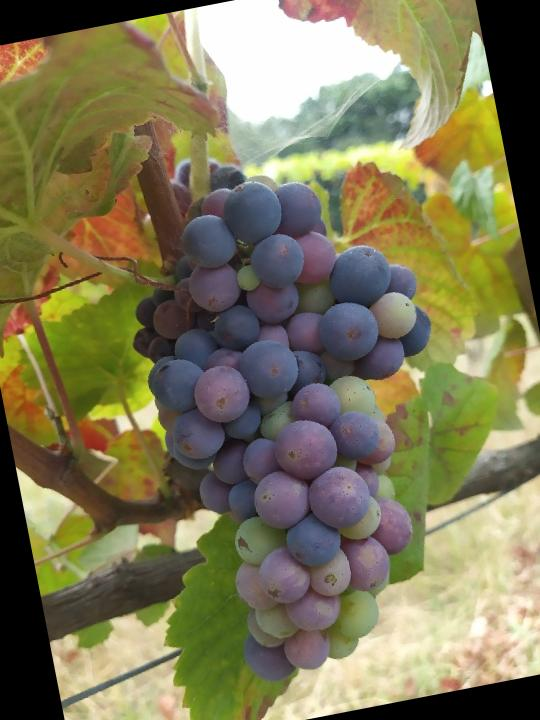grape: (102, 144, 496, 700)
